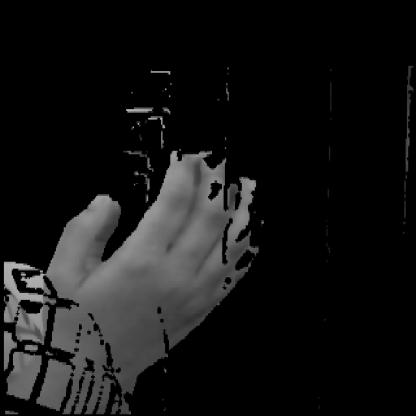dua: (31, 137, 277, 376)
